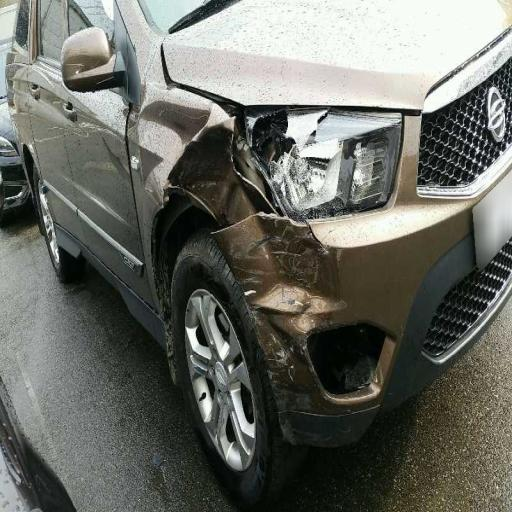broken: (162, 60, 384, 448)
dent: (97, 91, 145, 217)
